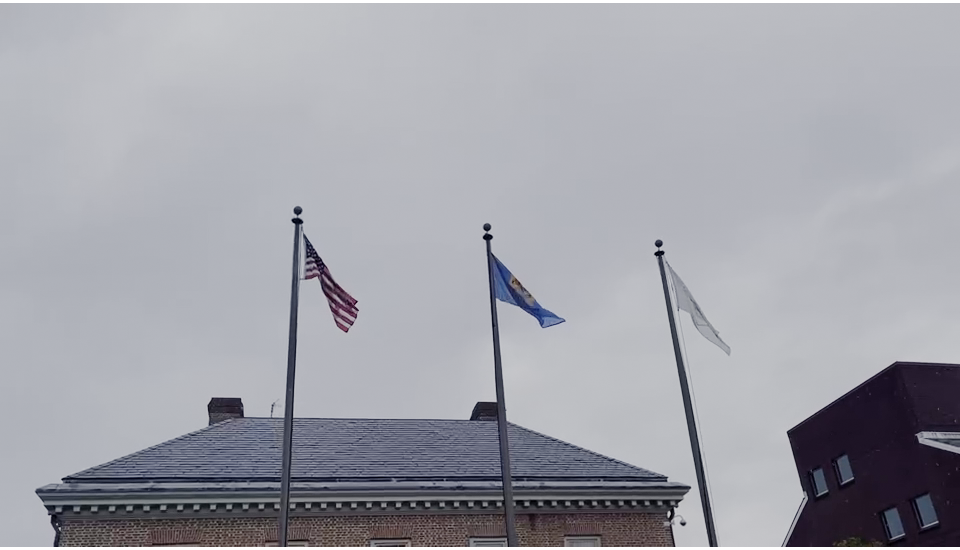America flag: (299, 228, 361, 335)
Delaware flag: (488, 250, 571, 333)
